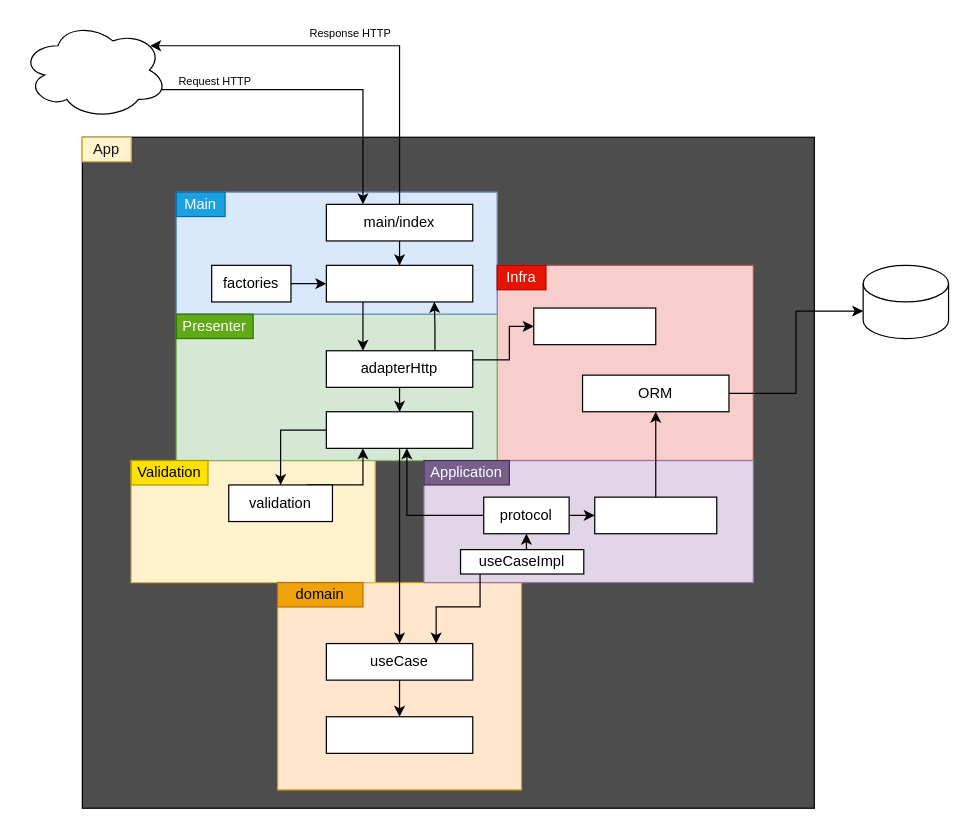
The diagram is 970 pixels wide and 830 high, and some of its shapes have lost their labels. Here are the shapes that lost their labels. From the top down, the centre of each, then its label:
(94,69): Browser
(399,283): routers
(905,301): Database
(594,326): express
(399,429): controller
(655,515): repository
(399,734): entities
